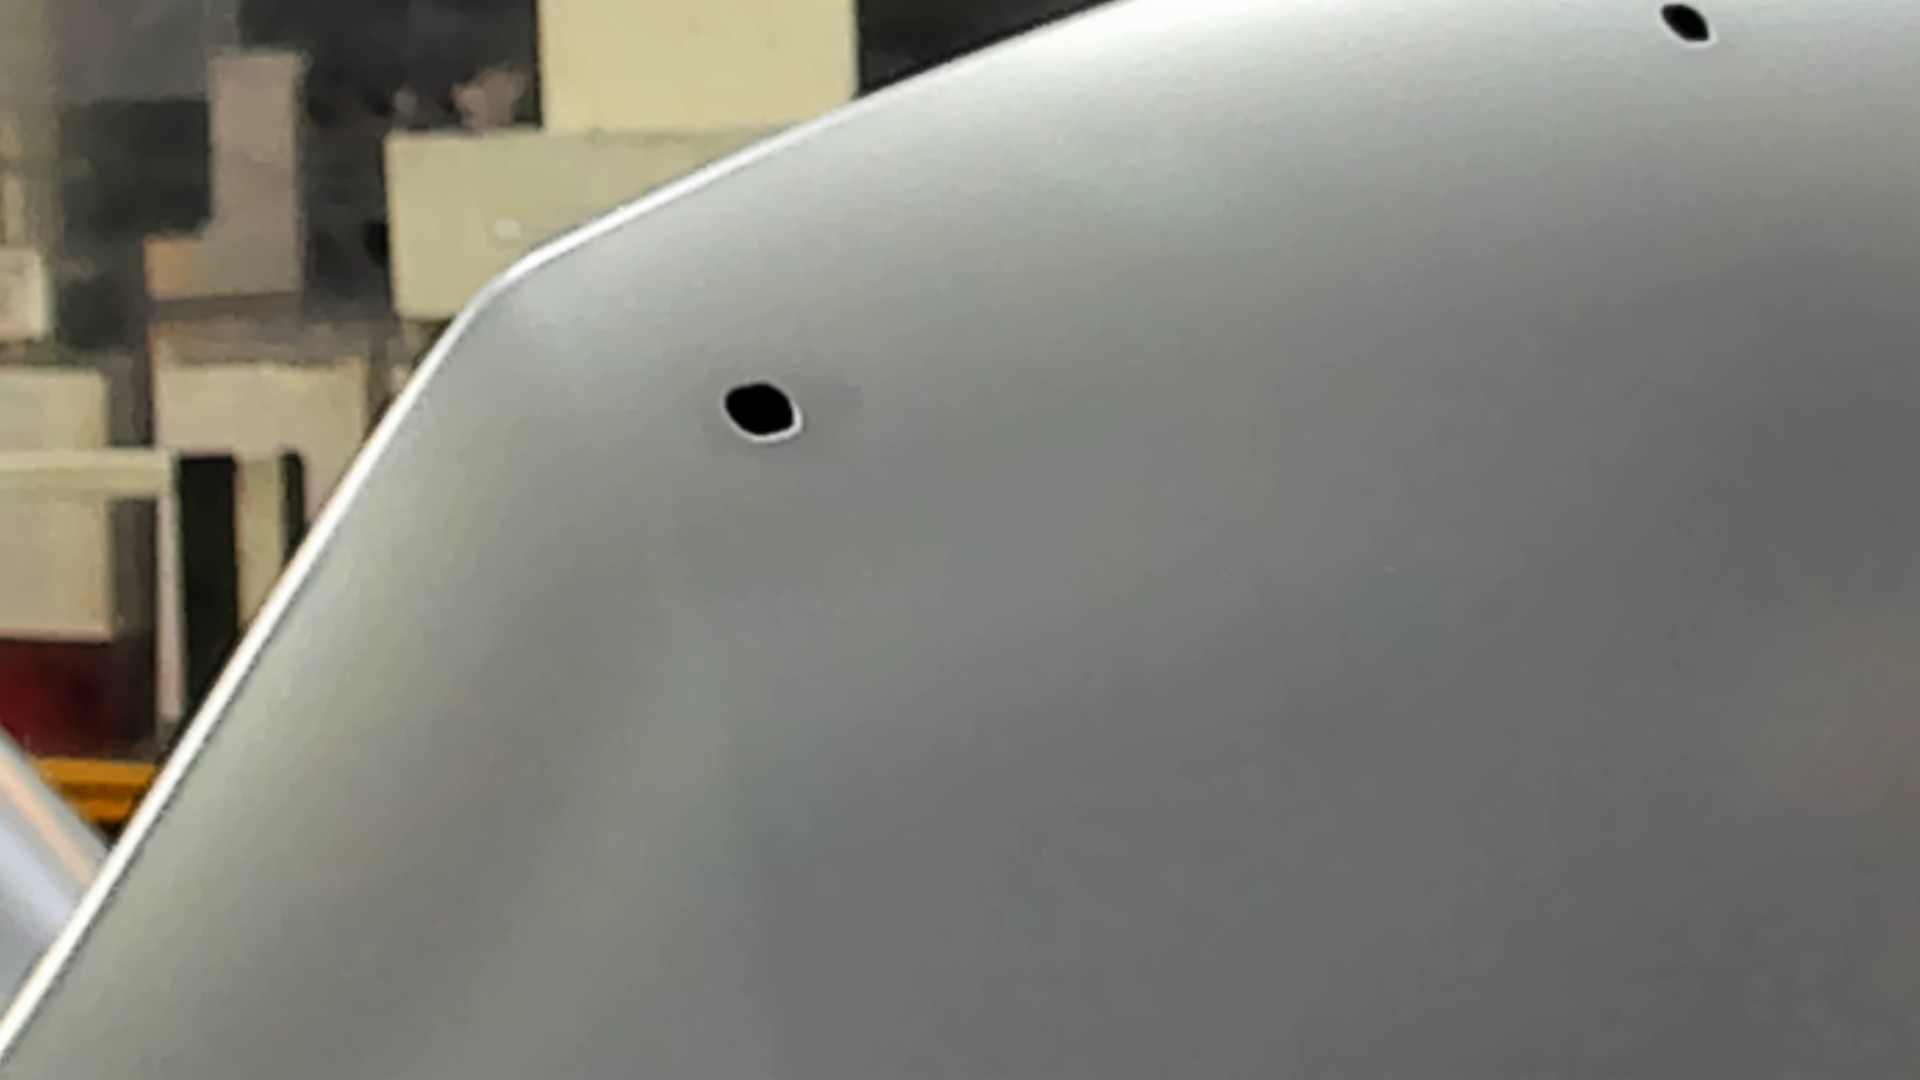amorfo: (721, 376, 800, 444), (1655, 1, 1716, 55)
